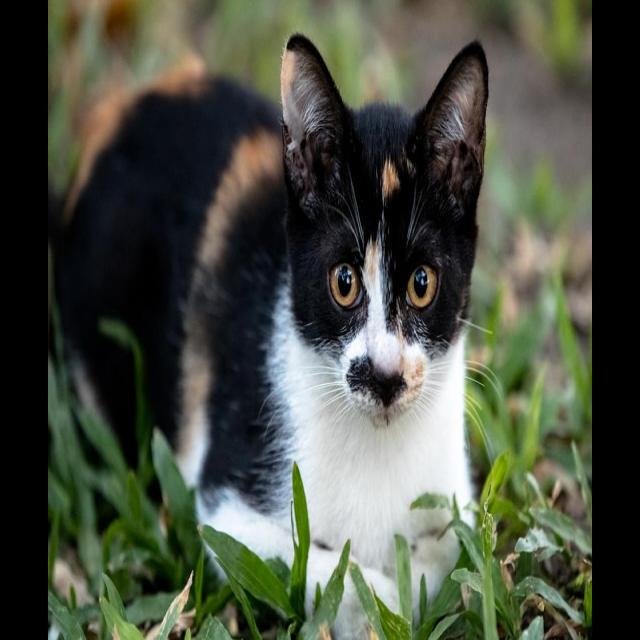cat: (49, 38, 505, 605)
